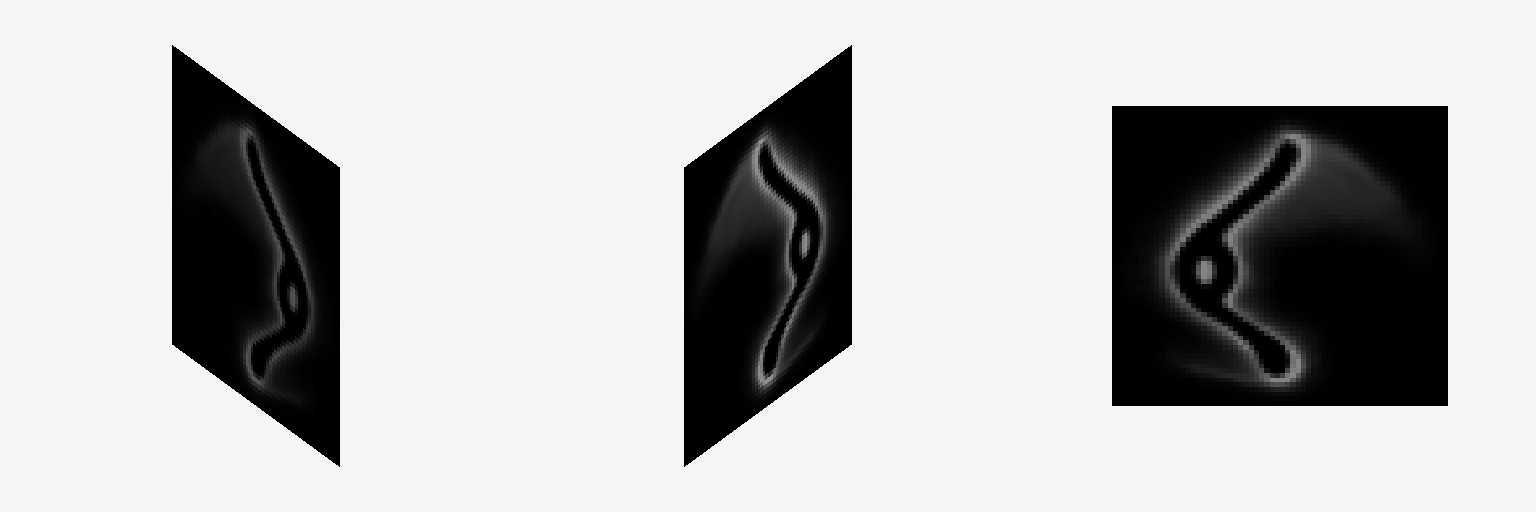
The picture shows the model from 3 angles: view 1: azimuth 30°, elevation 25°; view 2: azimuth 150°, elevation 25°; view 3: azimuth 270°, elevation 25°; orthographic projection.
Visible parts, largest first — view 1: polygon0; view 2: polygon0; view 3: polygon0.
Boxes of the visible parts, x1,y1,x2,y2 form: polygon0: [172, 45, 339, 466]; polygon0: [684, 45, 851, 466]; polygon0: [1112, 106, 1447, 405].
Size of the model in its own units: 0 by 19.3 by 19.58.
1 materials, 1 textured.